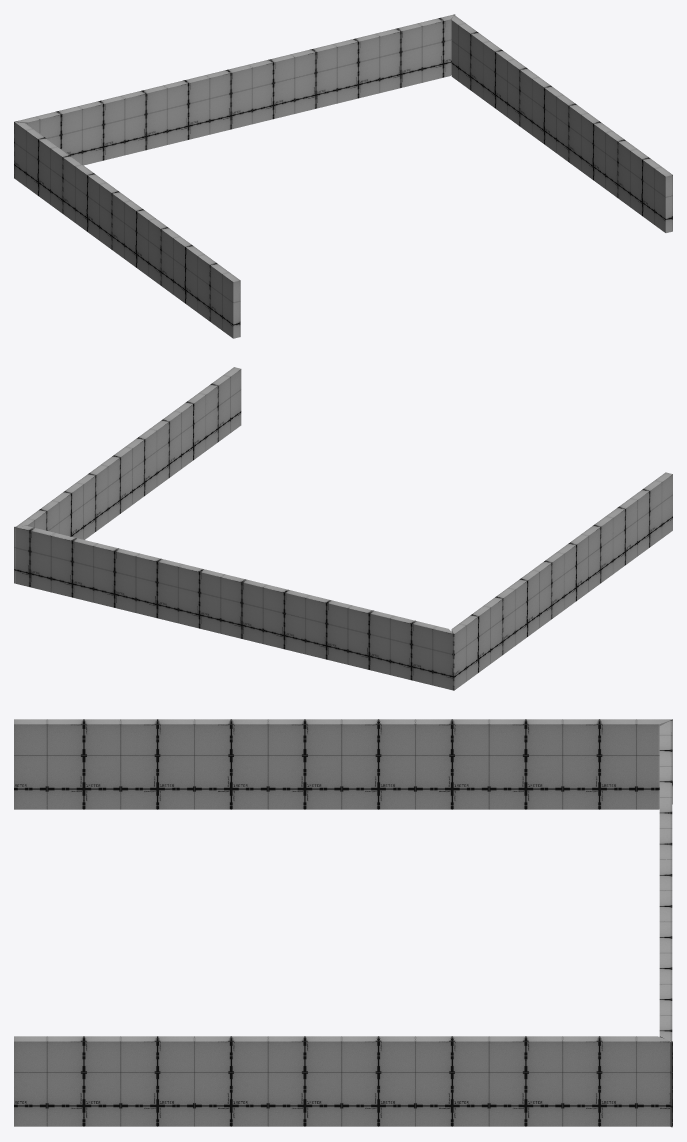
The model's file is Casa_EXTERIOR_Muro_Posterior_Bajo.fbx.
3 views of the same model, one above another, from view 1: azimuth 30°, elevation 25°; view 2: azimuth 150°, elevation 25°; view 3: azimuth 270°, elevation 25° (orthographic). The views are drawn at different scales.
Parts seen in each view (by area): view 1: Casa_EXTERIOR_Muro_Posterior_Bajo; view 2: Casa_EXTERIOR_Muro_Posterior_Bajo; view 3: Casa_EXTERIOR_Muro_Posterior_Bajo.
Boxes of the visible parts, x1,y1,x2,y2 form: Casa_EXTERIOR_Muro_Posterior_Bajo: (14, 14, 672, 338); Casa_EXTERIOR_Muro_Posterior_Bajo: (14, 367, 672, 690); Casa_EXTERIOR_Muro_Posterior_Bajo: (14, 719, 672, 1127).
Bounding box in the file's own units: 10.38 × 1.27 × 8.95.
